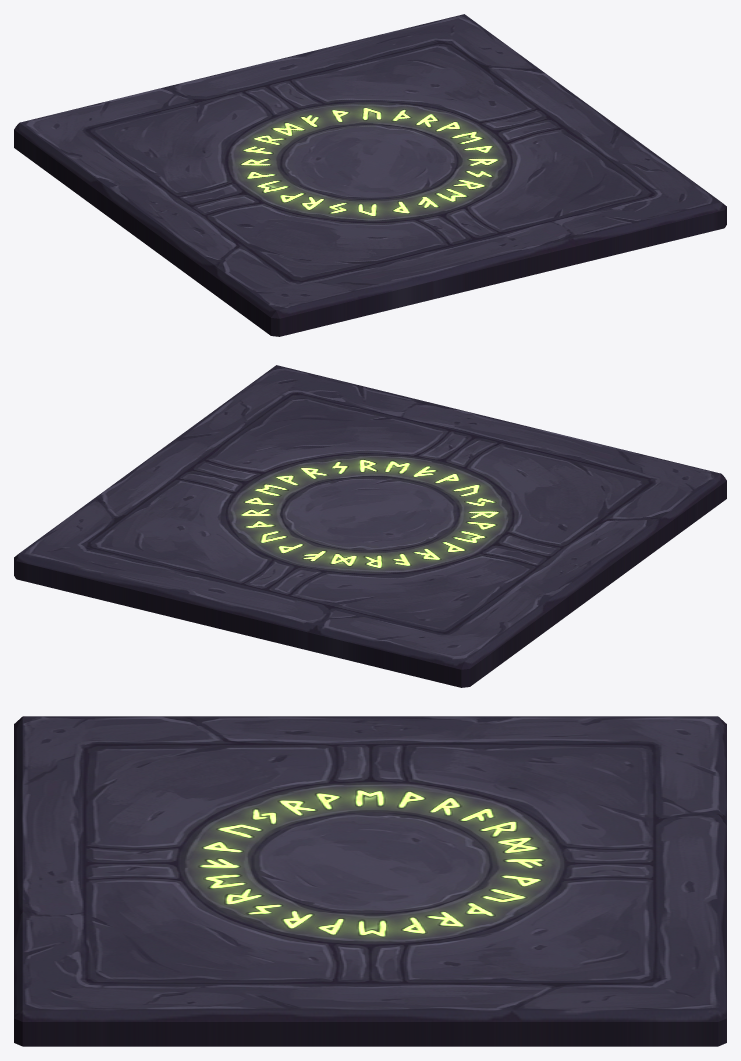
Rendered from piso_runico.glb.
The picture shows the model from 3 angles, top to bottom: view 1: azimuth 30°, elevation 25°; view 2: azimuth 150°, elevation 25°; view 3: azimuth 270°, elevation 25°; orthographic projection. The views are drawn at different scales.
Parts seen in each view (by area): view 1: piso_runico; view 2: piso_runico; view 3: piso_runico.
Boxes of the visible parts, bbox=[...] form: piso_runico: bbox=[14, 14, 726, 336]; piso_runico: bbox=[14, 365, 726, 687]; piso_runico: bbox=[14, 716, 726, 1046].
Size of the model in its own units: 1 by 0.05 by 1.
Materials: 1 (1 with a texture image).
